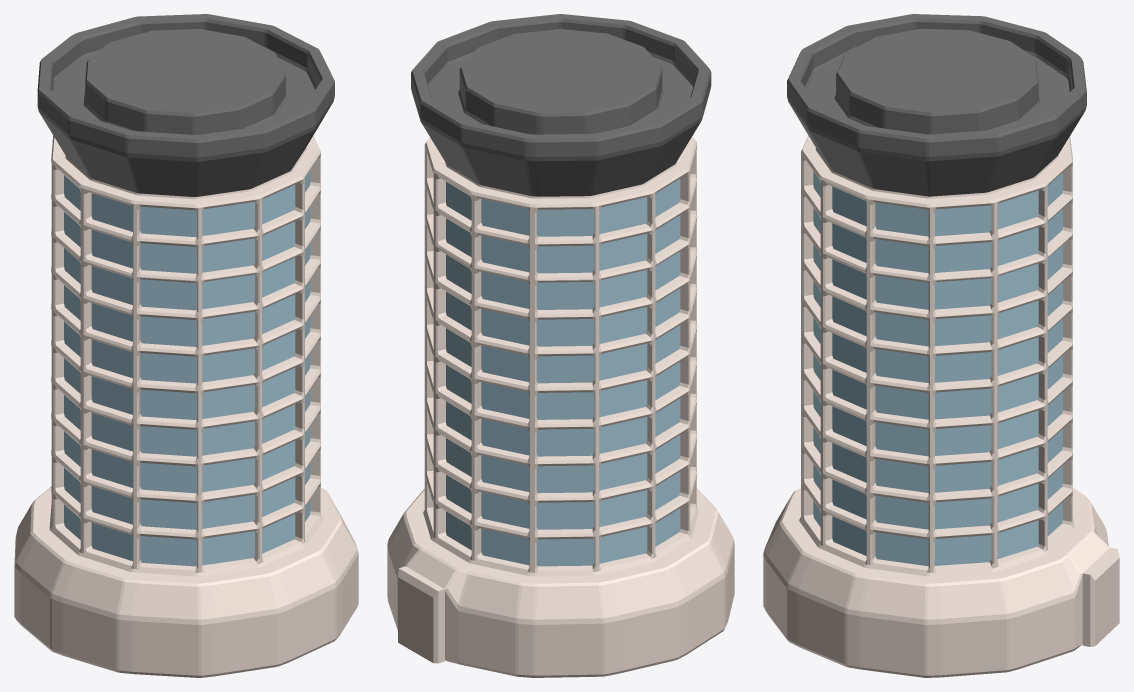
File: Building_005.fbx
3 renders of one model, left to right at view 1: azimuth 30°, elevation 25°; view 2: azimuth 150°, elevation 25°; view 3: azimuth 270°, elevation 25°, orthographic.
Visible parts, largest first — view 1: Building_005; view 2: Building_005; view 3: Building_005.
Part boxes in pixels (x1,y1,x2,y2): Building_005: (14, 14, 358, 677); Building_005: (387, 14, 734, 677); Building_005: (763, 14, 1119, 677).
Size of the model in its own units: 2980 by 5081 by 3071.
